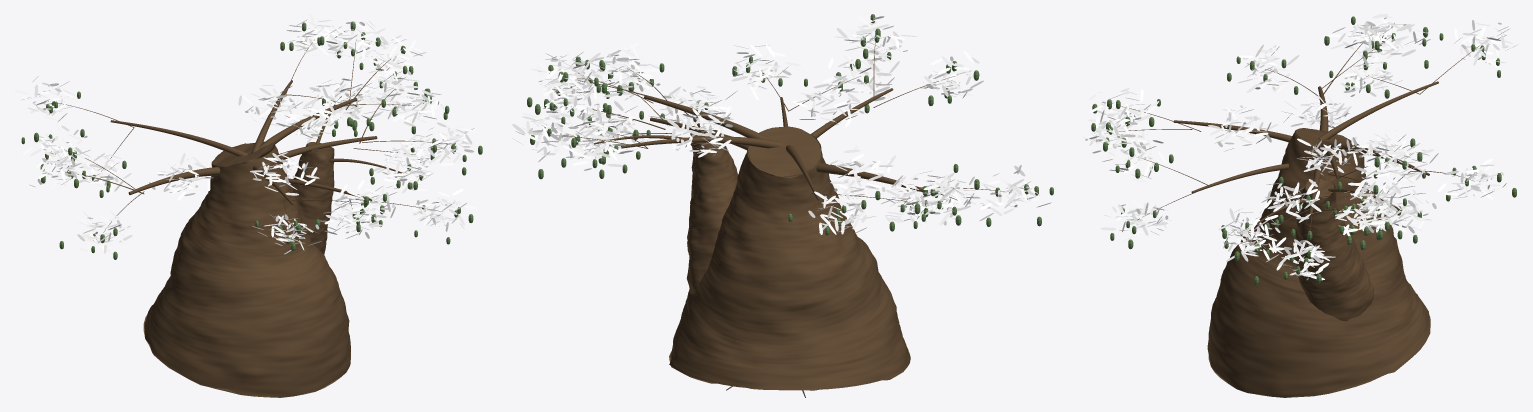
The model's file is olive-tree.glb.
The picture shows the model from 3 angles, left to right: view 1: azimuth 30°, elevation 25°; view 2: azimuth 150°, elevation 25°; view 3: azimuth 270°, elevation 25°; orthographic projection. The views are drawn at different scales.
Parts seen in each view (by area): view 1: Trunk_Main, CanopyLeaves, OliveFruits, Trunk_Secondary, Bough_NW, Bough_N, Bough_W, Bough_E, Bough_NE; view 2: Trunk_Main, CanopyLeaves, Trunk_Secondary, OliveFruits, Bough_NE, Bough_N, Bough_W, Bough_S; view 3: Trunk_Main, CanopyLeaves, Trunk_Secondary, OliveFruits, Bough_NW, Bough_S, Bough_SE.
Part boxes in pixels (box(x1,y1,x2,y2)): Trunk_Main: box(143, 141, 350, 397); CanopyLeaves: box(14, 14, 480, 254); OliveFruits: box(21, 21, 482, 259); Trunk_Secondary: box(291, 142, 334, 254); Bough_NW: box(110, 120, 248, 156); Bough_N: box(243, 98, 357, 162); Bough_W: box(128, 166, 226, 194); Bough_E: box(279, 136, 377, 159); Bough_NE: box(251, 80, 292, 153); Trunk_Main: box(669, 126, 910, 390); CanopyLeaves: box(512, 16, 1051, 234); Trunk_Secondary: box(686, 130, 738, 294); OliveFruits: box(527, 14, 1053, 235); Bough_NE: box(621, 136, 782, 148); Bough_N: box(644, 95, 772, 140); Bough_W: box(807, 163, 922, 191); Bough_S: box(811, 88, 893, 138); Trunk_Main: box(1207, 128, 1430, 397); CanopyLeaves: box(1082, 14, 1515, 280); Trunk_Secondary: box(1294, 178, 1374, 321); OliveFruits: box(1091, 16, 1516, 284); Bough_NW: box(1318, 81, 1438, 140); Bough_S: box(1173, 120, 1315, 146); Bough_SE: box(1191, 163, 1288, 193).
Size of the model in its own units: 5.53 by 3.58 by 4.79.
